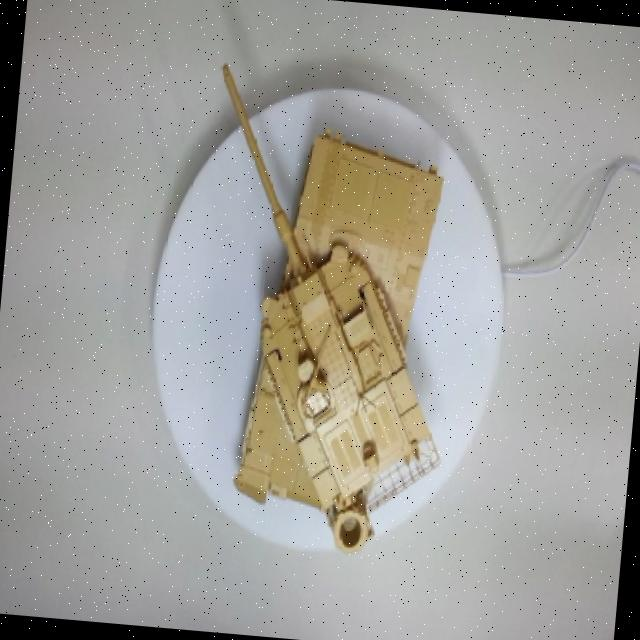korea tank: (134, 17, 522, 581)
